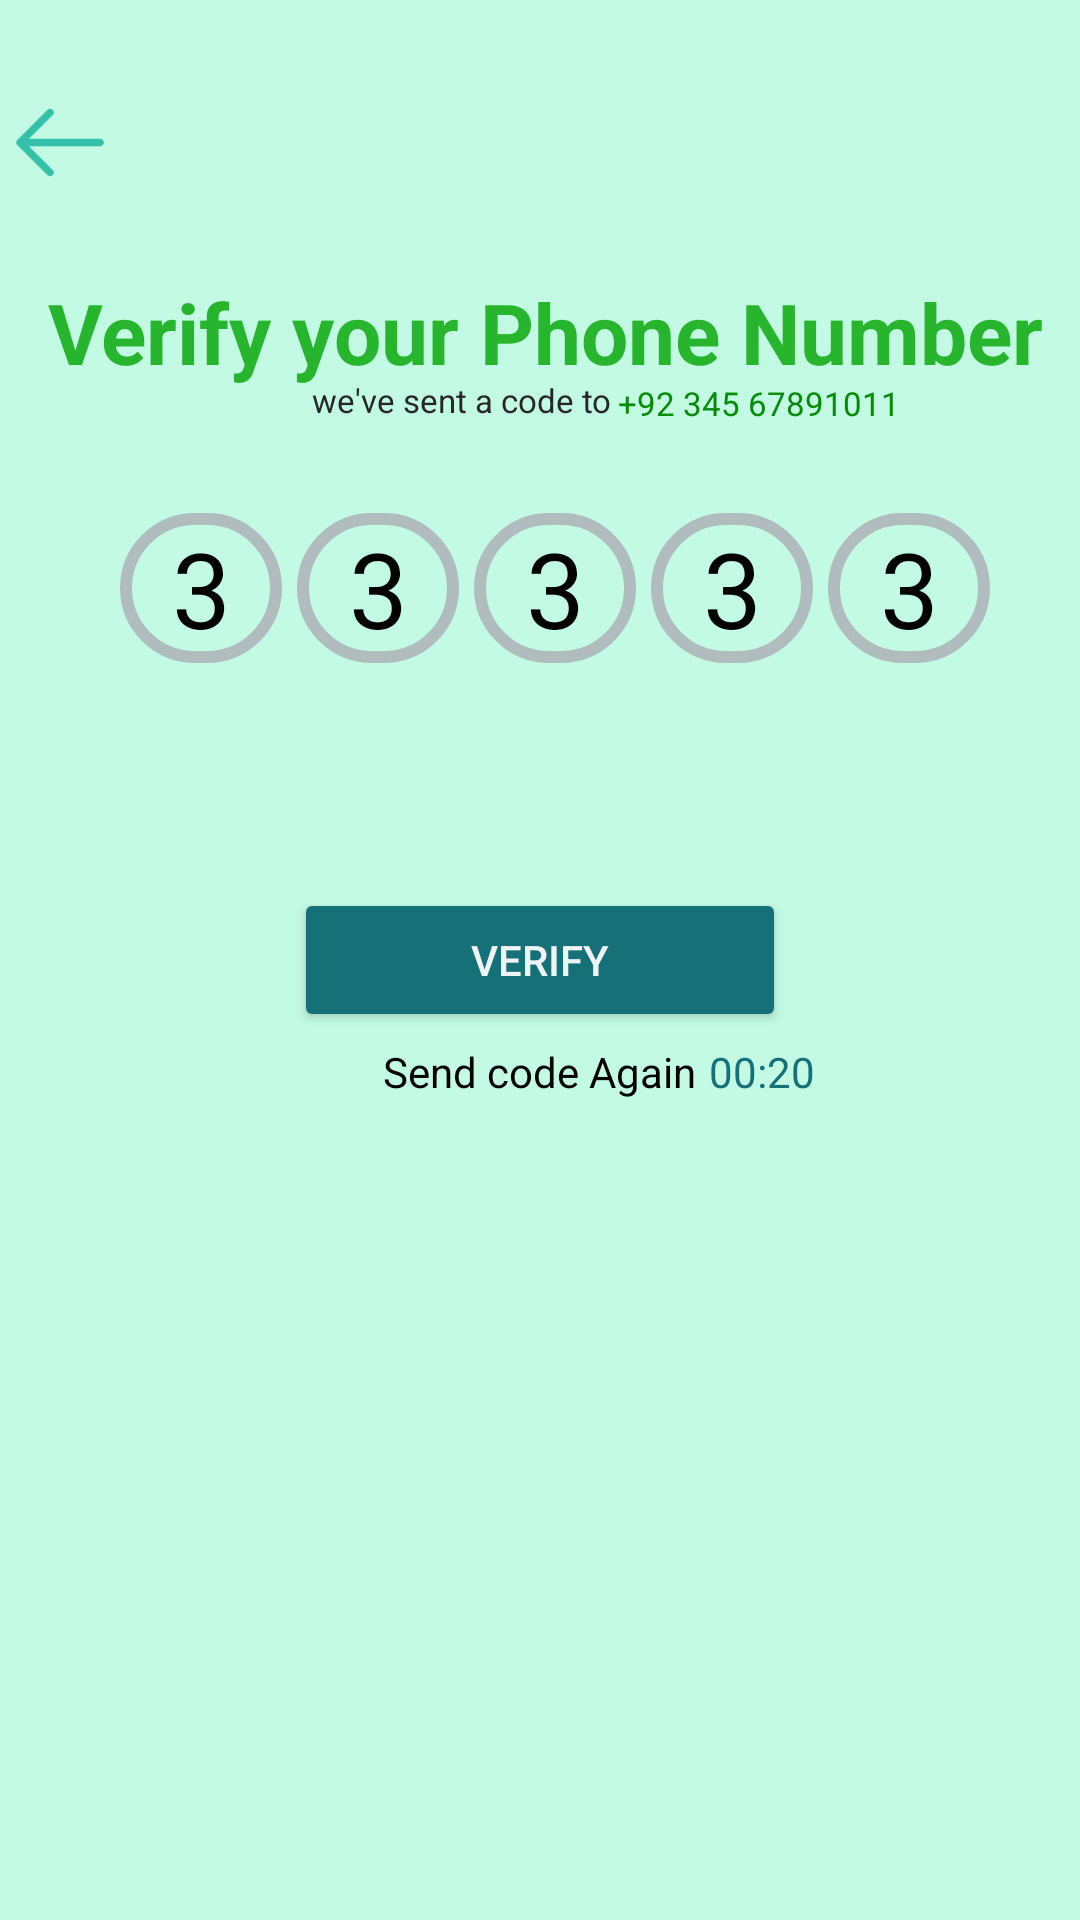

Icon click points for this 1080 x 1920 phone screenshot, format [x,y]:
arrow left: [60,142]
